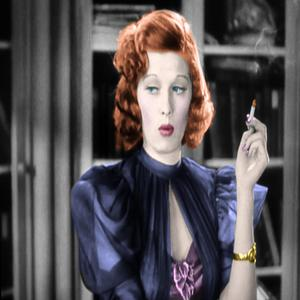cigarette: (246, 99, 258, 128)
